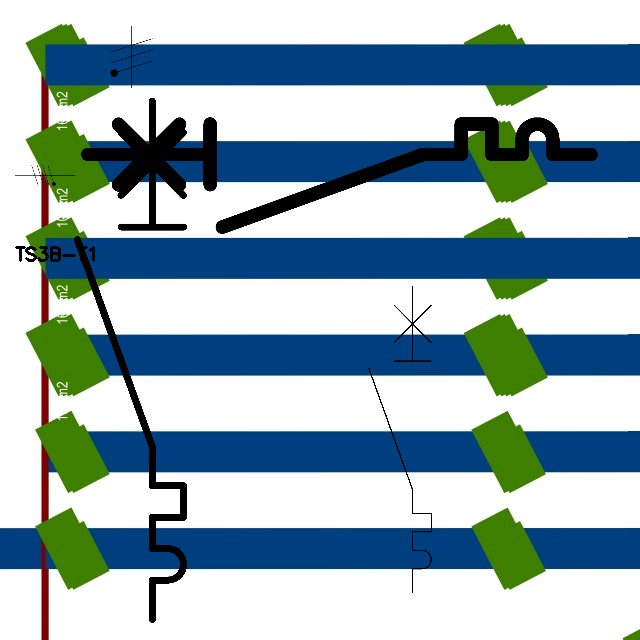interruptor_termomagnetico: (64, 87, 197, 632), (74, 111, 603, 240), (361, 279, 439, 600)
